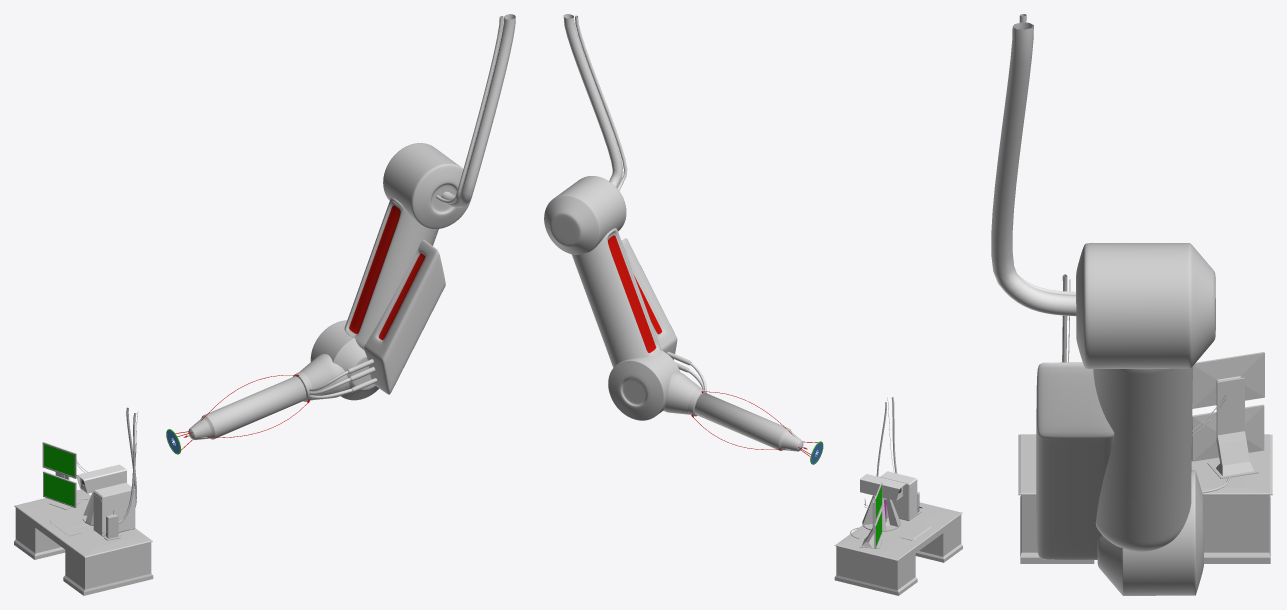
File: menu_scene_desk.fbx
3 views of the same model, side by side, from view 1: azimuth 30°, elevation 25°; view 2: azimuth 150°, elevation 25°; view 3: azimuth 270°, elevation 25° (orthographic). The views are drawn at different scales.
Visible parts, largest first — view 1: Cube.013, Cube, Cube.014, BezierCurve.010, Cube.002, Cube.011, Cube.012, BezierCurve.014; view 2: Cube.013, Cube, Cube.014, BezierCurve.010, Cube.011, Cube.012, Cube.002, Cylinder, BezierCurve.014; view 3: Cube.013, Cube, Cube.002, BezierCurve.010.
Boxes of the visible parts, <box> form: Cube.013: <box>293,143,470,402</box>; Cube: <box>14,489,153,595</box>; Cube.014: <box>166,376,306,454</box>; BezierCurve.010: <box>441,14,515,207</box>; Cube.002: <box>42,442,80,509</box>; Cube.011: <box>93,482,135,536</box>; Cube.012: <box>76,464,126,493</box>; BezierCurve.014: <box>436,16,503,203</box>; Cube.013: <box>544,176,706,420</box>; Cube: <box>834,502,962,595</box>; Cube.014: <box>694,392,823,464</box>; BezierCurve.010: <box>563,14,622,187</box>; Cube.011: <box>880,471,917,520</box>; Cube.012: <box>860,474,906,500</box>; Cube.002: <box>859,482,882,548</box>; Cylinder: <box>862,495,900,531</box>; BezierCurve.014: <box>575,15,627,190</box>; Cube.013: <box>1036,243,1215,595</box>; Cube: <box>1018,434,1272,563</box>; Cube.002: <box>1191,352,1264,478</box>; BezierCurve.010: <box>991,22,1076,316</box>.
Bounding box in the file's own units: 2221 × 2340 × 698.
